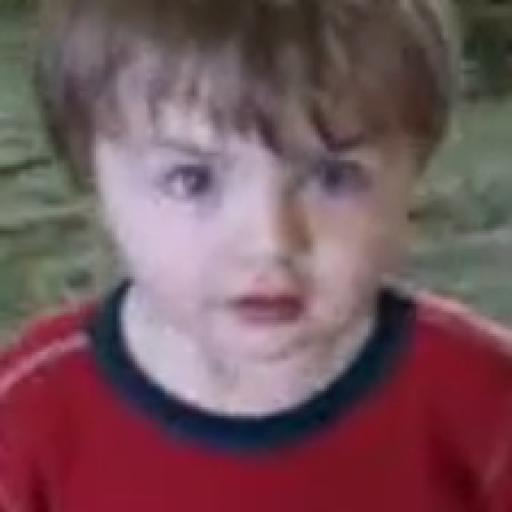Autism: (66, 4, 431, 412)
